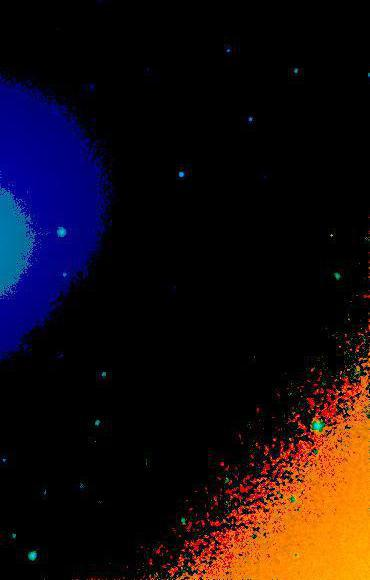star: (314, 222, 344, 252)
